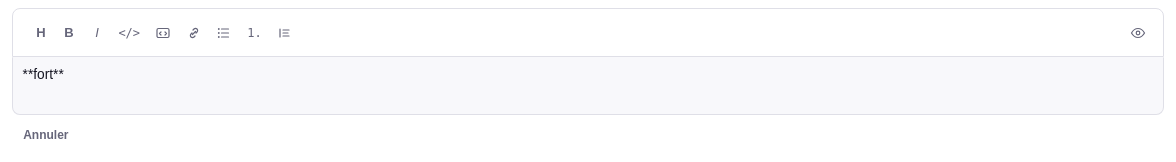
Test: MarkdownEditor — aperçu › bascule en aperçu : rend le Markdown, masque le textarea et désactive les outils
Click the button named "Aperçu" at (1138, 32), box [1122,18,1153,46]
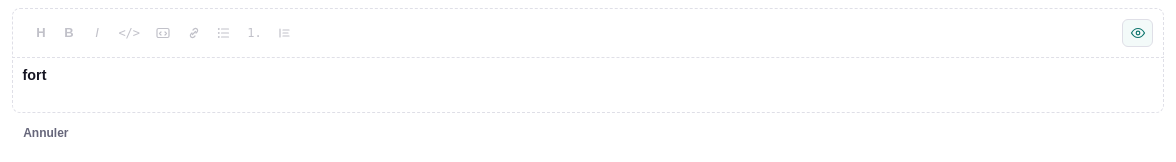
expect the text "fort" is shown: met, box [23,67,46,83]
expect the button named "Gras" is disabled: met, box [55,18,83,46]
expect the button named "Titre" is disabled: met, box [27,18,55,46]
Note: Retour à l'édition : le textarea revient avec le même contenu.
Click the button named "Aperçu" at (1138, 32), box [1122,18,1153,46]
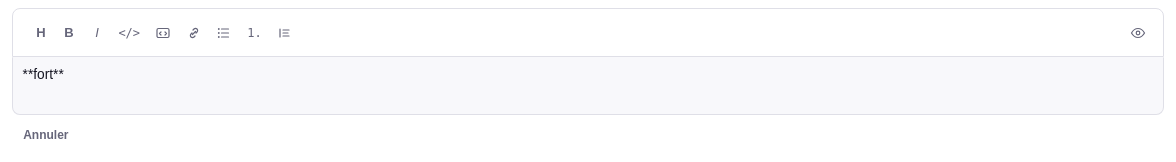
expect the text box named "Éditeur Markdown" holds "**fort**": met, box [12,57,1164,115]
expect the button named "Gras" is enabled: met, box [55,18,83,46]
